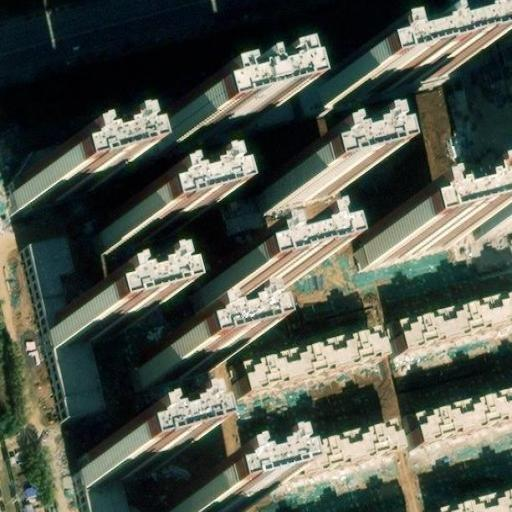building: (23, 235, 97, 417), (229, 331, 379, 398), (255, 425, 405, 492), (315, 48, 448, 115), (391, 305, 512, 372), (161, 85, 261, 150), (411, 393, 512, 454), (361, 212, 457, 272), (194, 254, 287, 310), (252, 160, 344, 215), (134, 335, 216, 392), (41, 291, 123, 348), (69, 437, 151, 493), (99, 192, 181, 248), (0, 172, 75, 221), (170, 485, 240, 512), (478, 198, 512, 242), (75, 482, 123, 512), (448, 494, 512, 512)
